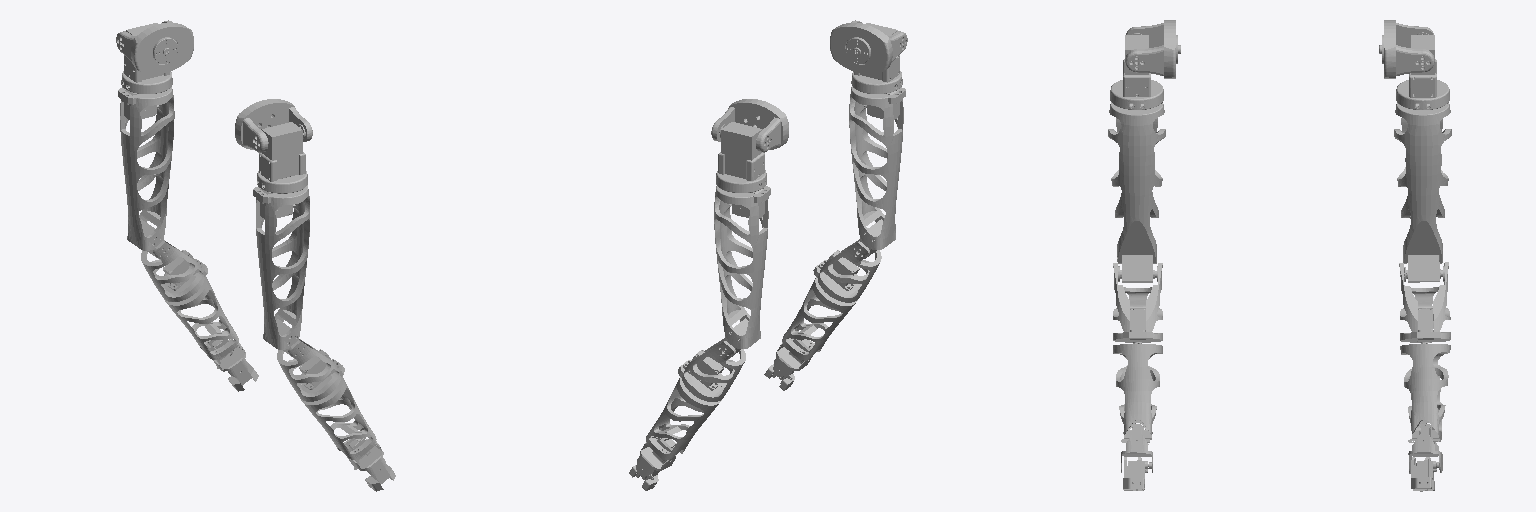
robot.urdf — rv4_urdf:
<?xml version="1.0" encoding="utf-8"?>
<!-- This URDF was automatically created by SolidWorks to URDF Exporter! Originally created by [author] ([email redacted]) 
     Commit Version: 1.6.0-1-g15f4949  Build Version: 1.6.7594.29634
     For more information, please see http://wiki.ros.org/sw_urdf_exporter -->
<robot
  name="rv4_urdf">
  <link name="dummy">
   </link>
  <joint name="dummy_joint" type="fixed">
     <parent link="dummy"/>
     <child link="base_link"/>
   </joint>
  <link
    name="base_link">
    <inertial>
      <origin
        xyz="0.00560748393181018 -5.72980281193236E-05 0.393688142680735"
        rpy="0 0 0" />
      <mass
        value="3.14328907832882" />
      <inertia
        ixx="0.00876070724752071"
        ixy="-6.29513247652565E-07"
        ixz="7.47970958207403E-05"
        iyy="0.00507019872231979"
        iyz="-7.29983236651988E-07"
        izz="0.00871885643827801" />
    </inertial>
    <visual>
      <origin
        xyz="0 0 0"
        rpy="0 0 0" />
      <geometry>
        <mesh
          filename="package://rv4_urdf/meshes/base_link.STL" />
      </geometry>
      <material
        name="">
        <color
          rgba="0.752941176470588 0.752941176470588 0.752941176470588 1" />
      </material>
    </visual>
    <collision>
      <origin
        xyz="0 0 0"
        rpy="0 0 0" />
      <geometry>
        <mesh
          filename="package://rv4_urdf/meshes/base_link.STL" />
      </geometry>
    </collision>
  </link>
  <link
    name="left_link1">
    <inertial>
      <origin
        xyz="-6.56158344686242E-07 2.62750502744991E-05 -0.0132141268586939"
        rpy="0 0 0" />
      <mass
        value="0.106189096929068" />
      <inertia
        ixx="0.000102720739615276"
        ixy="2.15903830368657E-11"
        ixz="-2.67097386940612E-09"
        iyy="4.8602427958858E-05"
        iyz="9.58310991744956E-08"
        izz="0.000105404364259589" />
    </inertial>
    <visual>
      <origin
        xyz="0 0 0"
        rpy="0 0 0" />
      <geometry>
        <mesh
          filename="package://rv4_urdf/meshes/left_link1.STL" />
      </geometry>
      <material
        name="">
        <color
          rgba="0.752941176470588 0.752941176470588 0.752941176470588 1" />
      </material>
    </visual>
    <collision>
      <origin
        xyz="0 0 0"
        rpy="0 0 0" />
      <geometry>
        <mesh
          filename="package://rv4_urdf/meshes/left_link1.STL" />
      </geometry>
    </collision>
  </link>
  <joint
    name="left_joint1"
    type="revolute">
    <origin
      xyz="-0.016126 0.13513 0.50387"
      rpy="1.5708 1.5708 0" />
    <parent
      link="base_link" />
    <child
      link="left_link1" />
    <axis
      xyz="0 0 -1" />
    <limit
      lower="-1.57"
      upper="1.57"
      effort="0"
      velocity="0" />
  </joint>
  <link
    name="left_link2">
    <inertial>
      <origin
        xyz="-7.34541805158528E-09 0.0297436677212492 -0.0310312504084327"
        rpy="0 0 0" />
      <mass
        value="0.123246255299013" />
      <inertia
        ixx="6.0318556068026E-05"
        ixy="1.20439342696274E-11"
        ixz="-9.51800594149494E-13"
        iyy="4.18415229464945E-05"
        iyz="-4.74806854210014E-09"
        izz="4.92881066602072E-05" />
    </inertial>
    <visual>
      <origin
        xyz="0 0 0"
        rpy="0 0 0" />
      <geometry>
        <mesh
          filename="package://rv4_urdf/meshes/left_Link2.STL" />
      </geometry>
      <material
        name="">
        <color
          rgba="0.752941176470588 0.752941176470588 0.752941176470588 1" />
      </material>
    </visual>
    <collision>
      <origin
        xyz="0 0 0"
        rpy="0 0 0" />
      <geometry>
        <mesh
          filename="package://rv4_urdf/meshes/left_Link2.STL" />
      </geometry>
    </collision>
  </link>
  <joint
    name="left_joint2"
    type="revolute">
    <origin
      xyz="0 -0.0308 -0.0485"
      rpy="1.5708 1.5708 0" />
    <parent
      link="left_link1" />
    <child
      link="left_link2" />
    <axis
      xyz="0 0 -1" />
    <limit
      lower="-1.57"
      upper="1.57"
      effort="0"
      velocity="0" />
  </joint>
  <link
    name="left_link3">
    <inertial>
      <origin
        xyz="0.00110867197467454 0.000361292170338423 0.110349860729504"
        rpy="0 0 0" />
      <mass
        value="0.206652338799622" />
      <inertia
        ixx="0.000730733037810351"
        ixy="2.2191157570129E-07"
        ixz="2.28815390958791E-05"
        iyy="0.000769148493163622"
        iyz="-7.09703016266695E-07"
        izz="0.000128598960866134" />
    </inertial>
    <visual>
      <origin
        xyz="0 0 0"
        rpy="0 0 0" />
      <geometry>
        <mesh
          filename="package://rv4_urdf/meshes/left_Link3.STL" />
      </geometry>
      <material
        name="">
        <color
          rgba="0.752941176470588 0.752941176470588 0.752941176470588 1" />
      </material>
    </visual>
    <collision>
      <origin
        xyz="0 0 0"
        rpy="0 0 0" />
      <geometry>
        <mesh
          filename="package://rv4_urdf/meshes/left_Link3.STL" />
      </geometry>
    </collision>
  </link>
  <joint
    name="left_joint3"
    type="revolute">
    <origin
      xyz="0.00034926 0.067999 -0.03065"
      rpy="-1.5708 1.5379 0" />
    <parent
      link="left_link2" />
    <child
      link="left_link3" />
    <axis
      xyz="0 0 1" />
    <limit
      lower="-1.57"
      upper="1.57"
      effort="0"
      velocity="0" />
  </joint>
  <link
    name="left_link4">
    <inertial>
      <origin
        xyz="0.00789329399326713 0.0613284747542714 -0.0278148700139813"
        rpy="0 0 0" />
      <mass
        value="0.0829617412541254" />
      <inertia
        ixx="6.78309077987625E-05"
        ixy="-2.92773050627894E-06"
        ixz="3.26995528370664E-08"
        iyy="4.32473747909059E-05"
        iyz="-1.14697787335162E-07"
        izz="6.78610008070791E-05" />
    </inertial>
    <visual>
      <origin
        xyz="0 0 0"
        rpy="0 0 0" />
      <geometry>
        <mesh
          filename="package://rv4_urdf/meshes/left_Link4.STL" />
      </geometry>
      <material
        name="">
        <color
          rgba="0.752941176470588 0.752941176470588 0.752941176470588 1" />
      </material>
    </visual>
    <collision>
      <origin
        xyz="0 0 0"
        rpy="0 0 0" />
      <geometry>
        <mesh
          filename="package://rv4_urdf/meshes/left_Link4.STL" />
      </geometry>
    </collision>
  </link>
  <joint
    name="left_joint4"
    type="revolute">
    <origin
      xyz="0.011408 -0.028552 0.24485"
      rpy="1.5708 0.5236 0" />
    <parent
      link="left_link3" />
    <child
      link="left_link4" />
    <axis
      xyz="0 0 -1" />
    <limit
      lower="-1.57"
      upper="1.57"
      effort="0"
      velocity="0" />
  </joint>
  <link
    name="left_link5">
    <inertial>
      <origin
        xyz="-6.93370281633632E-05 -0.000532545592317191 0.0490567795384674"
        rpy="0 0 0" />
      <mass
        value="0.0720712750743264" />
      <inertia
        ixx="0.000134649363838202"
        ixy="-2.98072674190089E-08"
        ixz="-1.08770106995486E-08"
        iyy="0.000124908836150636"
        iyz="1.98218390381237E-06"
        izz="3.82464305705756E-05" />
    </inertial>
    <visual>
      <origin
        xyz="0 0 0"
        rpy="0 0 0" />
      <geometry>
        <mesh
          filename="package://rv4_urdf/meshes/left_Link5.STL" />
      </geometry>
      <material
        name="">
        <color
          rgba="0.752941176470588 0.752941176470588 0.752941176470588 1" />
      </material>
    </visual>
    <collision>
      <origin
        xyz="0 0 0"
        rpy="0 0 0" />
      <geometry>
        <mesh
          filename="package://rv4_urdf/meshes/left_Link5.STL" />
      </geometry>
    </collision>
  </link>
  <joint
    name="left_joint5"
    type="revolute">
    <origin
      xyz="0.0050626 0.095696 -0.027751"
      rpy="1.5708 1.4154 -3.1416" />
    <parent
      link="left_link4" />
    <child
      link="left_link5" />
    <axis
      xyz="0 0 -1" />
    <limit
      lower="-1.57"
      upper="1.57"
      effort="0"
      velocity="0" />
  </joint>
  <link
    name="left_link6">
    <inertial>
      <origin
        xyz="0.015172543290609 -0.000854124534877765 -0.0189828153632957"
        rpy="0 0 0" />
      <mass
        value="0.0100617540109828" />
      <inertia
        ixx="3.26834774096759E-06"
        ixy="9.01241554811097E-09"
        ixz="6.74787031181155E-10"
        iyy="2.30051383018393E-06"
        iyz="-6.40067805375539E-11"
        izz="2.32491300961987E-06" />
    </inertial>
    <visual>
      <origin
        xyz="0 0 0"
        rpy="0 0 0" />
      <geometry>
        <mesh
          filename="package://rv4_urdf/meshes/left_Link6.STL" />
      </geometry>
      <material
        name="">
        <color
          rgba="0.752941176470588 0.752941176470588 0.752941176470588 1" />
      </material>
    </visual>
    <collision>
      <origin
        xyz="0 0 0"
        rpy="0 0 0" />
      <geometry>
        <mesh
          filename="package://rv4_urdf/meshes/left_Link6.STL" />
      </geometry>
    </collision>
  </link>
  <joint
    name="left_joint6"
    type="revolute">
    <origin
      xyz="0.001 -0.019862 0.12161"
      rpy="1.5708 -1.5557 0" />
    <parent
      link="left_link5" />
    <child
      link="left_link6" />
    <axis
      xyz="0 0 1" />
    <limit
      lower="-1.57"
      upper="1.57"
      effort="0"
      velocity="0" />
  </joint>
  <link
    name="left_link7">
    <inertial>
      <origin
        xyz="0.0157091237045611 0.000192248096417269 0.0214159457979712"
        rpy="0 0 0" />
      <mass
        value="0.0120342248508859" />
      <inertia
        ixx="1.92782063867436E-06"
        ixy="-1.04552660404719E-08"
        ixz="2.28700239213678E-07"
        iyy="1.84238698114856E-06"
        iyz="5.64134042522639E-09"
        izz="2.52000863418612E-06" />
    </inertial>
    <visual>
      <origin
        xyz="0 0 0"
        rpy="0 0 0" />
      <geometry>
        <mesh
          filename="package://rv4_urdf/meshes/left_Link7.STL" />
      </geometry>
      <material
        name="">
        <color
          rgba="0.752941176470588 0.752941176470588 0.752941176470588 1" />
      </material>
    </visual>
    <collision>
      <origin
        xyz="0 0 0"
        rpy="0 0 0" />
      <geometry>
        <mesh
          filename="package://rv4_urdf/meshes/left_Link7.STL" />
      </geometry>
    </collision>
  </link>
  <joint
    name="left_joint7"
    type="revolute">
    <origin
      xyz="0.030003 0.018101 -0.018919"
      rpy="1.5708 0 0" />
    <parent
      link="left_link6" />
    <child
      link="left_link7" />
    <axis
      xyz="0 0 -1" />
    <limit
      lower="-1.57"
      upper="1.57"
      effort="0"
      velocity="0" />
  </joint>
  <link
    name="right_link1">
    <inertial>
      <origin
        xyz="2.62750502746101E-05 -6.56158344769509E-07 0.0132141268588457"
        rpy="0 0 0" />
      <mass
        value="0.106189096929068" />
      <inertia
        ixx="4.86024279588585E-05"
        ixy="2.15903831805331E-11"
        ixz="-9.5831099174257E-08"
        iyy="0.000102720739615277"
        iyz="2.67097386939358E-09"
        izz="0.00010540436425959" />
    </inertial>
    <visual>
      <origin
        xyz="0 0 0"
        rpy="0 0 0" />
      <geometry>
        <mesh
          filename="package://rv4_urdf/meshes/right_link1.STL" />
      </geometry>
      <material
        name="">
        <color
          rgba="0.752941176470588 0.752941176470588 0.752941176470588 1" />
      </material>
    </visual>
    <collision>
      <origin
        xyz="0 0 0"
        rpy="0 0 0" />
      <geometry>
        <mesh
          filename="package://rv4_urdf/meshes/right_link1.STL" />
      </geometry>
    </collision>
  </link>
  <joint
    name="right_joint1"
    type="revolute">
    <origin
      xyz="-0.016126 -0.13513 0.50387"
      rpy="-1.5708 0 3.1416" />
    <parent
      link="base_link" />
    <child
      link="right_link1" />
    <axis
      xyz="0 0 1" />
    <limit
      lower="-1.57"
      upper="1.57"
      effort="0"
      velocity="0" />
  </joint>
  <link
    name="right_link2">
    <inertial>
      <origin
        xyz="7.34526658940915E-09 -0.029743667721249 0.0307310486844175"
        rpy="0 0 0" />
      <mass
        value="0.123246255299013" />
      <inertia
        ixx="6.03185560680463E-05"
        ixy="1.20439342689451E-11"
        ixz="9.51800645219263E-13"
        iyy="4.18415229465145E-05"
        iyz="4.7480685433885E-09"
        izz="4.92881066602072E-05" />
    </inertial>
    <visual>
      <origin
        xyz="0 0 0"
        rpy="0 0 0" />
      <geometry>
        <mesh
          filename="package://rv4_urdf/meshes/right_link2.STL" />
      </geometry>
      <material
        name="">
        <color
          rgba="0.752941176470588 0.752941176470588 0.752941176470588 1" />
      </material>
    </visual>
    <collision>
      <origin
        xyz="0 0 0"
        rpy="0 0 0" />
      <geometry>
        <mesh
          filename="package://rv4_urdf/meshes/right_link2.STL" />
      </geometry>
    </collision>
  </link>
  <joint
    name="right_joint2"
    type="revolute">
    <origin
      xyz="0.0308 0 0.0485"
      rpy="3.1416 1.5708 0" />
    <parent
      link="right_link1" />
    <child
      link="right_link2" />
    <axis
      xyz="0 0 1" />
    <limit
      lower="-1.57"
      upper="1.57"
      effort="0"
      velocity="0" />
  </joint>
  <link
    name="right_link3">
    <inertial>
      <origin
        xyz="0.00112009983007949 -0.000345676708914777 0.110349341736299"
        rpy="0 0 0" />
      <mass
        value="0.206651568168445" />
      <inertia
        ixx="0.000730727613005727"
        ixy="2.21855335529942E-07"
        ixz="2.28817997267002E-05"
        iyy="0.000769143084737755"
        iyz="-7.09882617278218E-07"
        izz="0.000128599152199157" />
    </inertial>
    <visual>
      <origin
        xyz="0 0 0"
        rpy="0 0 0" />
      <geometry>
        <mesh
          filename="package://rv4_urdf/meshes/right_link3.STL" />
      </geometry>
      <material
        name="">
        <color
          rgba="0.752941176470588 0.752941176470588 0.752941176470588 1" />
      </material>
    </visual>
    <collision>
      <origin
        xyz="0 0 0"
        rpy="0 0 0" />
      <geometry>
        <mesh
          filename="package://rv4_urdf/meshes/right_link3.STL" />
      </geometry>
    </collision>
  </link>
  <joint
    name="right_joint3"
    type="revolute">
    <origin
      xyz="-0.00035786 -0.067999 0.03095"
      rpy="1.5708 -1.5708 0" />
    <parent
      link="right_link2" />
    <child
      link="right_link3" />
    <axis
      xyz="0 0 1" />
    <limit
      lower="-1.57"
      upper="1.57"
      effort="0"
      velocity="0" />
  </joint>
  <link
    name="right_link4">
    <inertial>
      <origin
        xyz="0.0071336897297955 0.0608741554252923 0.0271884935209072"
        rpy="0 0 0" />
      <mass
        value="0.0829625455198911" />
      <inertia
        ixx="6.78301772241768E-05"
        ixy="-2.92733316147111E-06"
        ixz="3.28572473135685E-08"
        iyy="4.32471983234863E-05"
        iyz="-1.13984338389267E-07"
        izz="6.78605711548951E-05" />
    </inertial>
    <visual>
      <origin
        xyz="0 0 0"
        rpy="0 0 0" />
      <geometry>
        <mesh
          filename="package://rv4_urdf/meshes/right_link4.STL" />
      </geometry>
      <material
        name="">
        <color
          rgba="0.752941176470588 0.752941176470588 0.752941176470588 1" />
      </material>
    </visual>
    <collision>
      <origin
        xyz="0 0 0"
        rpy="0 0 0" />
      <geometry>
        <mesh
          filename="package://rv4_urdf/meshes/right_link4.STL" />
      </geometry>
    </collision>
  </link>
  <joint
    name="right_joint4"
    type="revolute">
    <origin
      xyz="0.012304 0.025745 0.24486"
      rpy="1.5708 0.5236 0" />
    <parent
      link="right_link3" />
    <child
      link="right_link4" />
    <axis
      xyz="0 0 -1" />
    <limit
      lower="-1.57"
      upper="1.57"
      effort="0"
      velocity="0" />
  </joint>
  <link
    name="right_link5">
    <inertial>
      <origin
        xyz="6.96317198551066E-05 -0.000533158408635132 -0.0490550218460323"
        rpy="0 0 0" />
      <mass
        value="0.07207071769062" />
      <inertia
        ixx="0.000134647334907689"
        ixy="2.96118889642871E-08"
        ixz="-1.0611932013064E-08"
        iyy="0.000124907368426522"
        iyz="-1.9825822563947E-06"
        izz="3.8245294539431E-05" />
    </inertial>
    <visual>
      <origin
        xyz="0 0 0"
        rpy="0 0 0" />
      <geometry>
        <mesh
          filename="package://rv4_urdf/meshes/right_link5.STL" />
      </geometry>
      <material
        name="">
        <color
          rgba="0.752941176470588 0.752941176470588 0.752941176470588 1" />
      </material>
    </visual>
    <collision>
      <origin
        xyz="0 0 0"
        rpy="0 0 0" />
      <geometry>
        <mesh
          filename="package://rv4_urdf/meshes/right_link5.STL" />
      </geometry>
    </collision>
  </link>
  <joint
    name="right_joint5"
    type="revolute">
    <origin
      xyz="0.004303 0.095242 0.027253"
      rpy="1.5708 -1.5708 0" />
    <parent
      link="right_link4" />
    <child
      link="right_link5" />
    <axis
      xyz="0 0 1" />
    <limit
      lower="-1.57"
      upper="1.57"
      effort="0"
      velocity="0" />
  </joint>
  <link
    name="right_link6">
    <inertial>
      <origin
        xyz="0.0148304767991002 -6.42768901653878E-05 -0.0189554389619786"
        rpy="0 0 0" />
      <mass
        value="0.010061754428592" />
      <inertia
        ixx="3.26834775700105E-06"
        ixy="-6.74674281809145E-10"
        ixz="-9.01194034108508E-09"
        iyy="2.32491274368699E-06"
        iyz="-6.40586301672582E-11"
        izz="2.30051378008714E-06" />
    </inertial>
    <visual>
      <origin
        xyz="0 0 0"
        rpy="0 0 0" />
      <geometry>
        <mesh
          filename="package://rv4_urdf/meshes/right_link6.STL" />
      </geometry>
      <material
        name="">
        <color
          rgba="0.752941176470588 0.752941176470588 0.752941176470588 1" />
      </material>
    </visual>
    <collision>
      <origin
        xyz="0 0 0"
        rpy="0 0 0" />
      <geometry>
        <mesh
          filename="package://rv4_urdf/meshes/right_link6.STL" />
      </geometry>
    </collision>
  </link>
  <joint
    name="right_joint6"
    type="revolute">
    <origin
      xyz="-0.001 -0.019862 -0.12161"
      rpy="-1.5708 1.5622 3.1416" />
    <parent
      link="right_link5" />
    <child
      link="right_link6" />
    <axis
      xyz="0 0 1" />
    <limit
      lower="-1.57"
      upper="1.57"
      effort="0"
      velocity="0" />
  </joint>
  <link
    name="right_link7">
    <inertial>
      <origin
        xyz="0.0157041161714937 -0.000440718414771557 0.0214159488826979"
        rpy="0 0 0" />
      <mass
        value="0.0120342232146875" />
      <inertia
        ixx="1.92683955425145E-06"
        ixy="-1.38600384735267E-08"
        ixz="2.28741607624488E-07"
        iyy="1.84336664272134E-06"
        iyz="-3.57627707231922E-09"
        izz="2.52000836180192E-06" />
    </inertial>
    <visual>
      <origin
        xyz="0 0 0"
        rpy="0 0 0" />
      <geometry>
        <mesh
          filename="package://rv4_urdf/meshes/right_link7.STL" />
      </geometry>
      <material
        name="">
        <color
          rgba="0.752941176470588 0.752941176470588 0.752941176470588 1" />
      </material>
    </visual>
    <collision>
      <origin
        xyz="0 0 0"
        rpy="0 0 0" />
      <geometry>
        <mesh
          filename="package://rv4_urdf/meshes/right_link7.STL" />
      </geometry>
    </collision>
  </link>
  <joint
    name="right_joint7"
    type="revolute">
    <origin
      xyz="0.03 0.018919 -0.018302"
      rpy="1.5708 0 0" />
    <parent
      link="right_link6" />
    <child
      link="right_link7" />
    <axis
      xyz="0 0 -1" />
    <limit
      lower="-1.57"
      upper="1.57"
      effort="0"
      velocity="0" />
  </joint>
</robot>

--- What the picture shows (computed from the rendered views, not written in the file) ---
The picture shows the robot from 3 angles, left to right: view 1: azimuth 30°, elevation 25°; view 2: azimuth 150°, elevation 25°; view 3: azimuth 270°, elevation 25°; orthographic projection.
Model rv4_urdf with 16 links and 15 joints (14 revolute, 1 fixed), rooted at dummy, posed every joint at zero.
Visible links, largest first — view 1: left_link3, right_link3, left_link1, right_link2, right_link4, left_link4, right_link5, left_link5, right_link1, left_link2, left_link6, right_link6; view 2: right_link3, left_link3, right_link1, left_link2, left_link5, left_link4, right_link4, right_link5, left_link1, right_link2, left_link6, right_link6; view 3: left_link3, right_link3, left_link5, right_link5, right_link4, left_link4, right_link1, left_link1, left_link2, right_link2, left_link7, right_link7 (+2 smaller).
Link boxes in pixels (bbox=[...]): left_link3: bbox=[118, 87, 174, 258]; right_link3: bbox=[253, 185, 309, 358]; left_link1: bbox=[116, 20, 193, 74]; right_link2: bbox=[257, 122, 307, 193]; right_link4: bbox=[277, 339, 344, 401]; left_link4: bbox=[141, 240, 207, 301]; right_link5: bbox=[301, 376, 380, 464]; left_link5: bbox=[164, 276, 242, 363]; right_link1: bbox=[235, 99, 312, 152]; left_link2: bbox=[121, 23, 172, 93]; left_link6: bbox=[213, 343, 247, 378]; right_link6: bbox=[347, 437, 385, 476]; right_link3: bbox=[849, 86, 905, 258]; left_link3: bbox=[714, 186, 770, 358]; right_link1: bbox=[830, 20, 907, 73]; left_link2: bbox=[716, 122, 766, 192]; left_link5: bbox=[646, 377, 721, 463]; left_link4: bbox=[678, 338, 745, 401]; right_link4: bbox=[813, 239, 881, 302]; right_link5: bbox=[782, 277, 857, 363]; left_link1: bbox=[711, 99, 788, 152]; right_link2: bbox=[851, 23, 902, 93]; left_link6: bbox=[636, 436, 675, 476]; right_link6: bbox=[773, 338, 810, 376]; left_link3: bbox=[1394, 103, 1451, 282]; right_link3: bbox=[1108, 102, 1165, 282]; left_link5: bbox=[1400, 344, 1450, 443]; right_link5: bbox=[1113, 344, 1162, 446]; right_link4: bbox=[1113, 263, 1162, 343]; left_link4: bbox=[1399, 262, 1450, 343]; right_link1: bbox=[1125, 20, 1180, 78]; left_link1: bbox=[1379, 20, 1434, 78]; left_link2: bbox=[1396, 32, 1449, 109]; right_link2: bbox=[1110, 33, 1163, 109]; left_link7: bbox=[1411, 457, 1438, 491]; right_link7: bbox=[1123, 457, 1151, 490].
Size in the robot's own frame: 0.2193 by 0.4413 by 0.595 metres.
Meshes: 15 distinct files referenced, 14 mesh visuals loaded (14 binary STL); not drawn: 1 (reference not matched to a file when rendering).